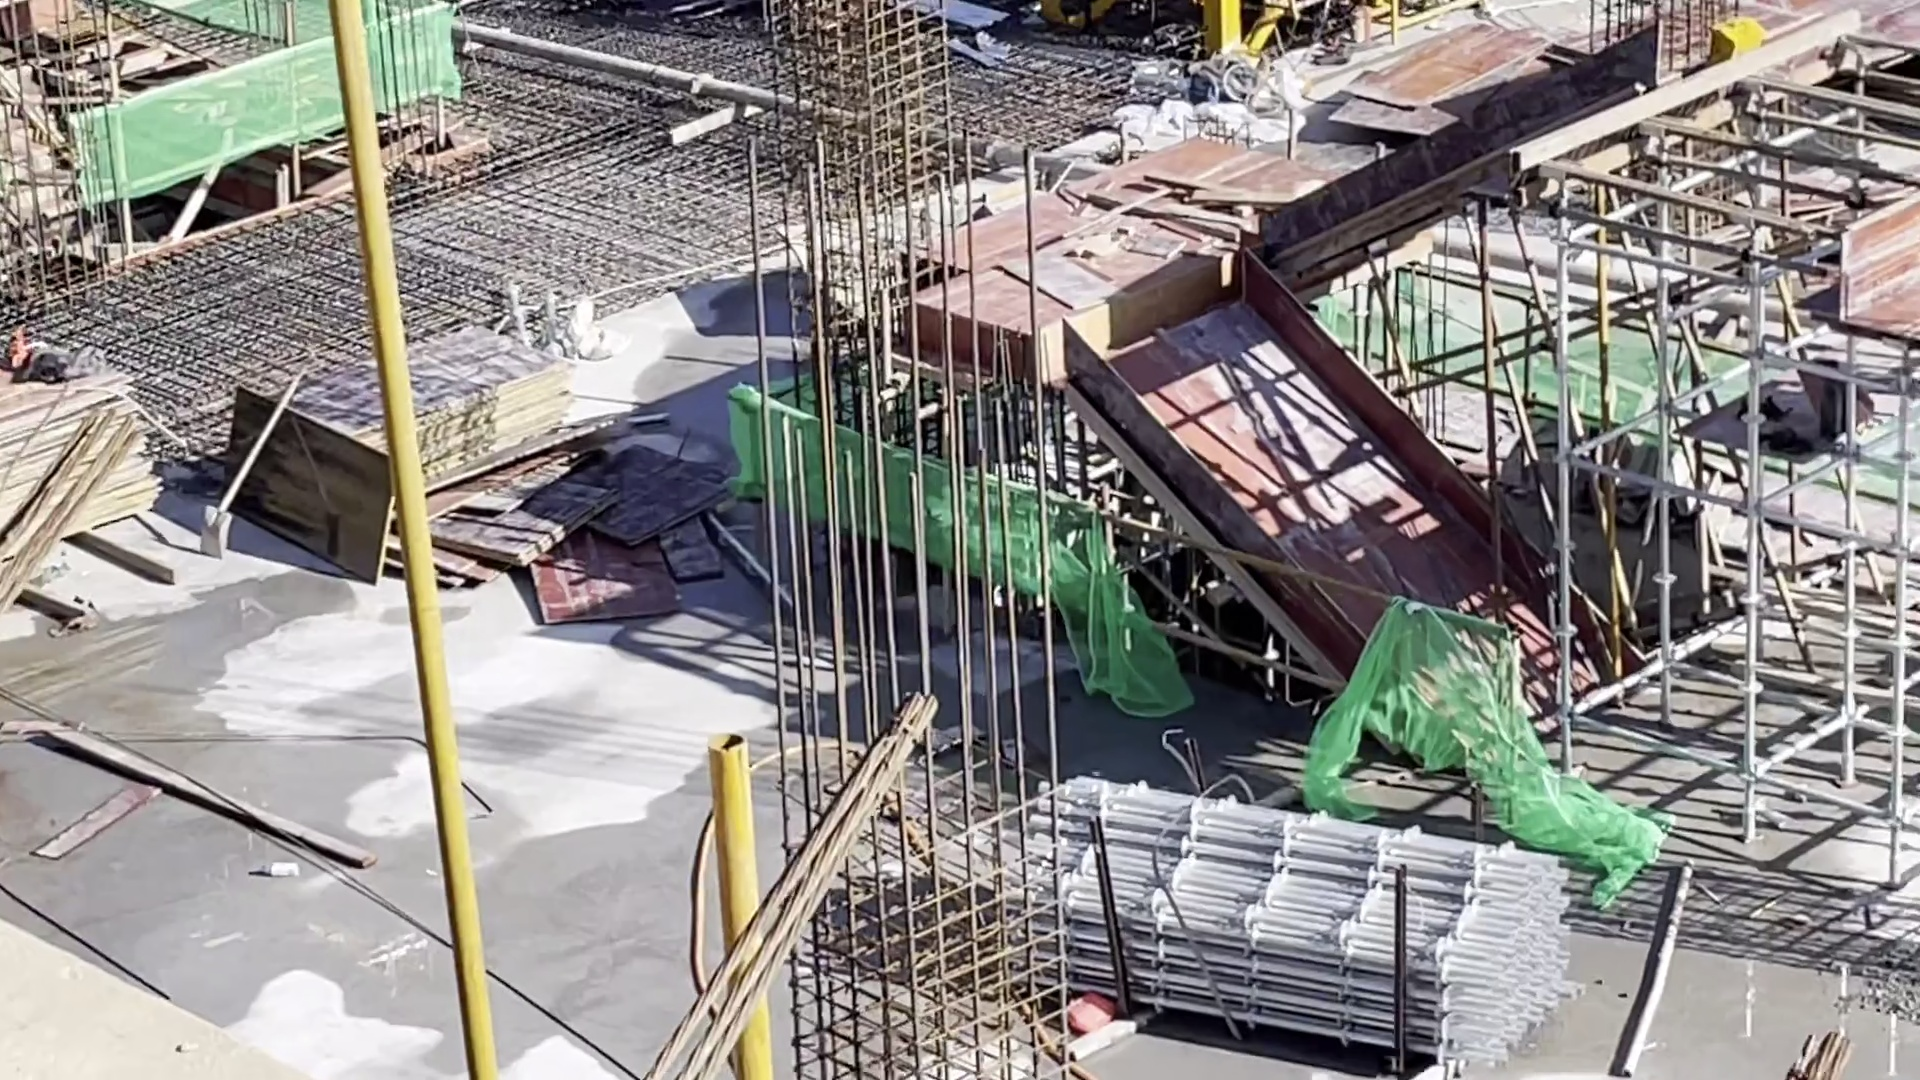board: (276, 322, 574, 484), (1, 367, 142, 543)
scaffold: (1068, 781, 1568, 1063)
